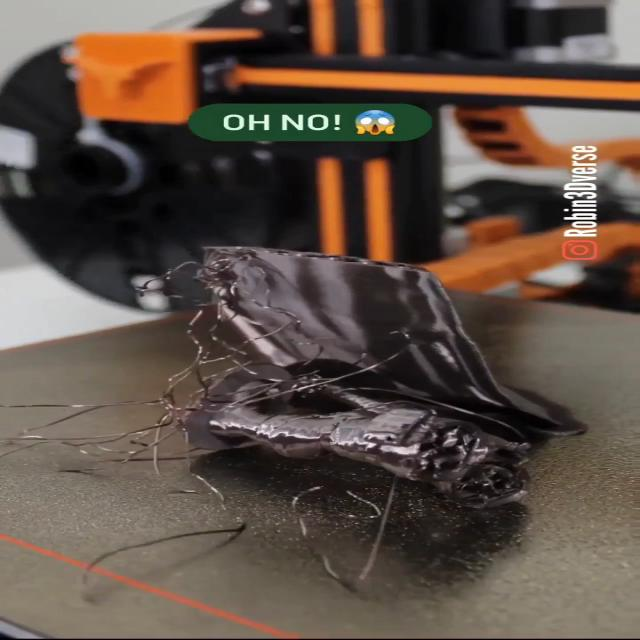spaghetti: (9, 248, 498, 596)
